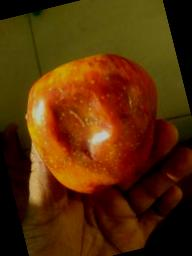Apple Rotten: (8, 30, 187, 212)
